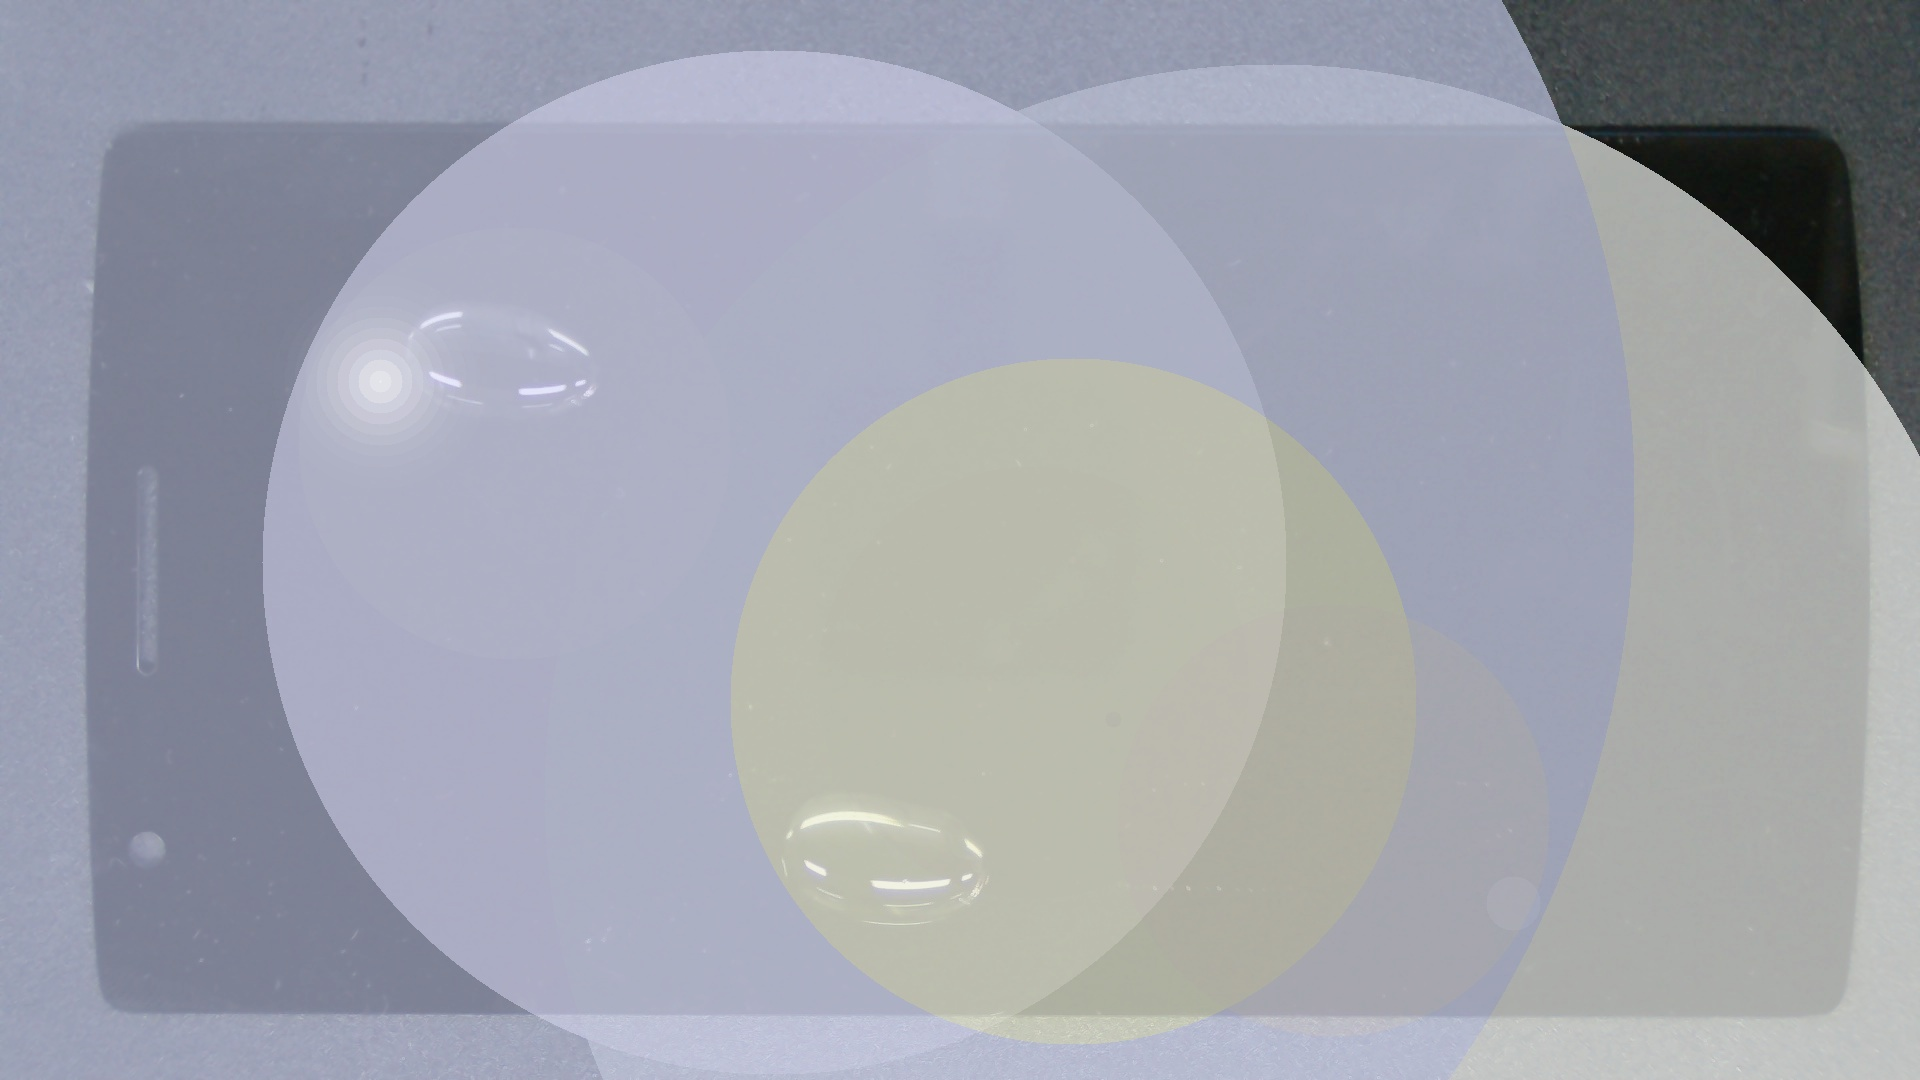oil: (421, 394, 1261, 1080), (229, 149, 688, 451)
